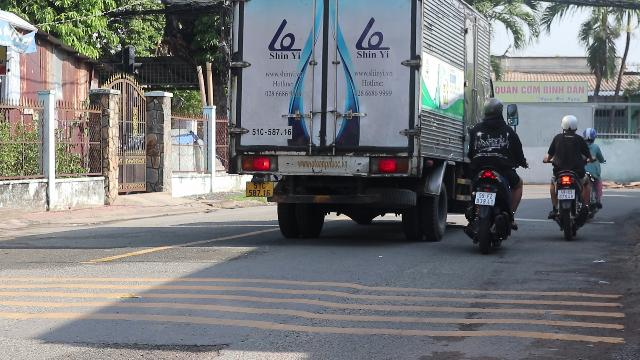helmet: (482, 96, 504, 120), (560, 114, 578, 134)
licenseplate: (476, 192, 496, 206), (558, 189, 574, 199)
motorcyclist: (462, 96, 526, 252), (544, 114, 602, 238)
